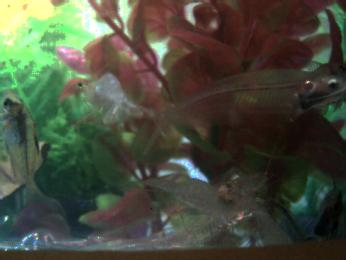X-ray fish: (1, 86, 51, 209)
glassfish: (149, 69, 344, 121)
siberian prawn: (143, 169, 257, 221), (79, 73, 150, 125)
